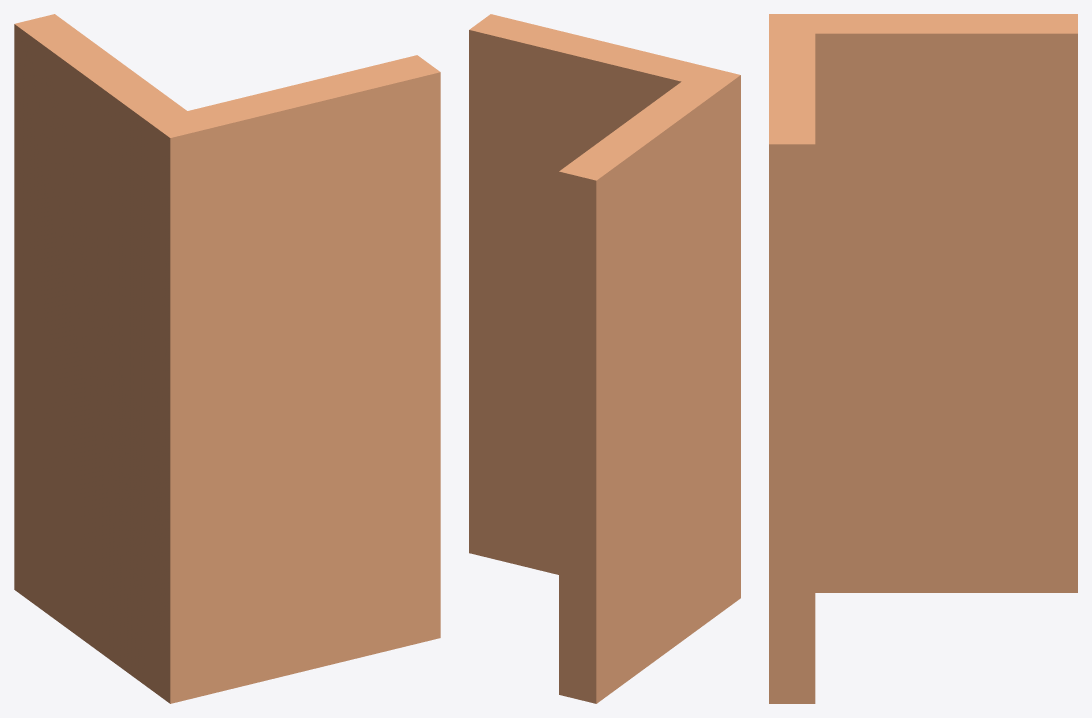
File: BeigeCorner.glb
3 views of the same model, side by side, from view 1: azimuth 30°, elevation 25°; view 2: azimuth 150°, elevation 25°; view 3: azimuth 270°, elevation 25° (orthographic). The views are drawn at different scales.
Visible parts, largest first — view 1: wall_plain_corner_beige; view 2: wall_plain_corner_beige; view 3: wall_plain_corner_beige.
Boxes of the visible parts, x1,y1,x2,y2 form: wall_plain_corner_beige: (14, 14, 440, 703); wall_plain_corner_beige: (469, 14, 740, 703); wall_plain_corner_beige: (769, 14, 1077, 703).
Size of what is drawn, in the model's own units: 2 by 4 by 2.
1 material, 1 textured.
